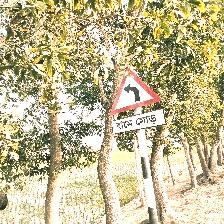Left-Turn: (109, 67, 166, 134)
